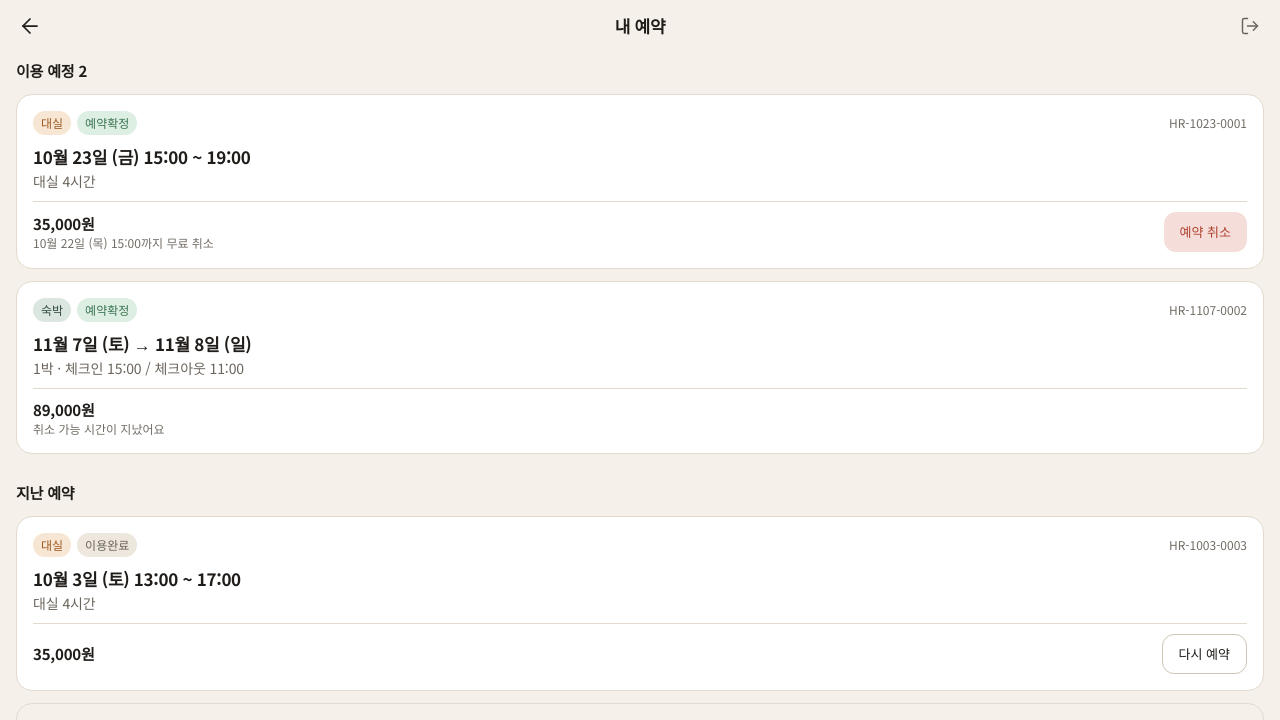
Test case: MyReservationsScreen › refreshes the list when a cancel fails (e.g. the deadline passed meanwhile)
Click the button "예약 취소" at (1205, 232), box left=1164, top=212, right=1247, bottom=252
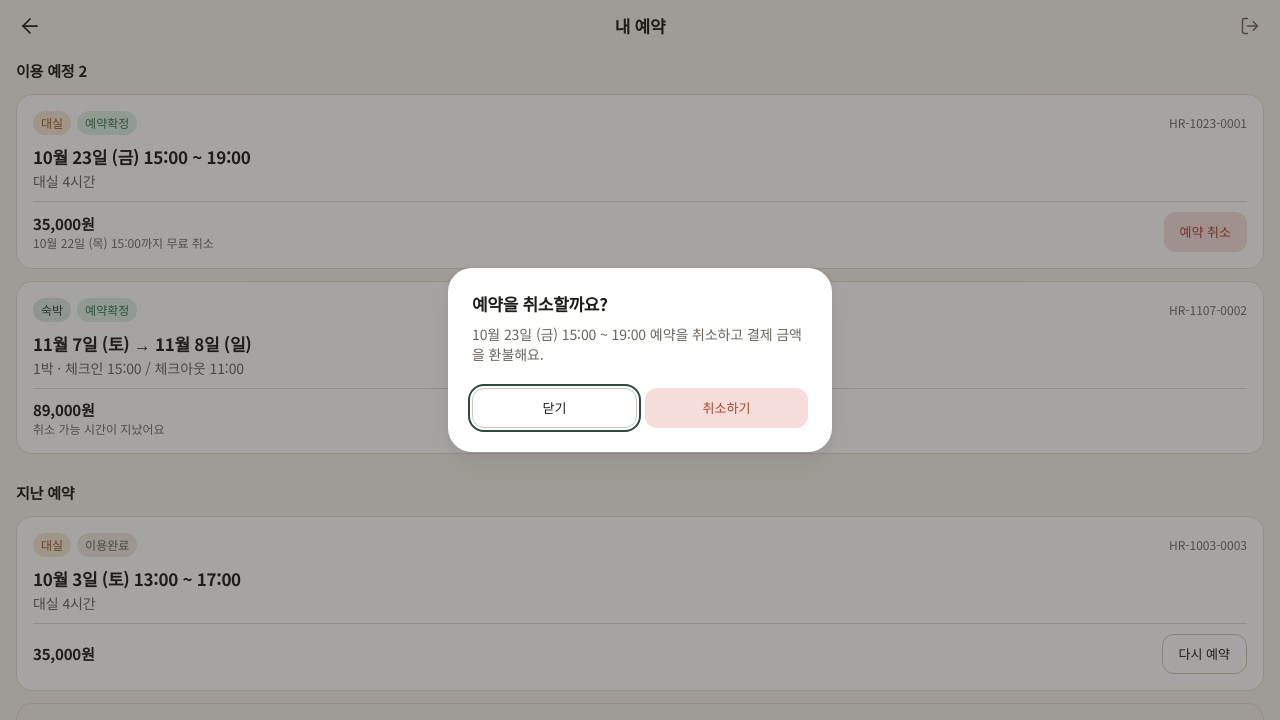
Click the button "취소하기" at (726, 408), box left=645, top=388, right=808, bottom=428
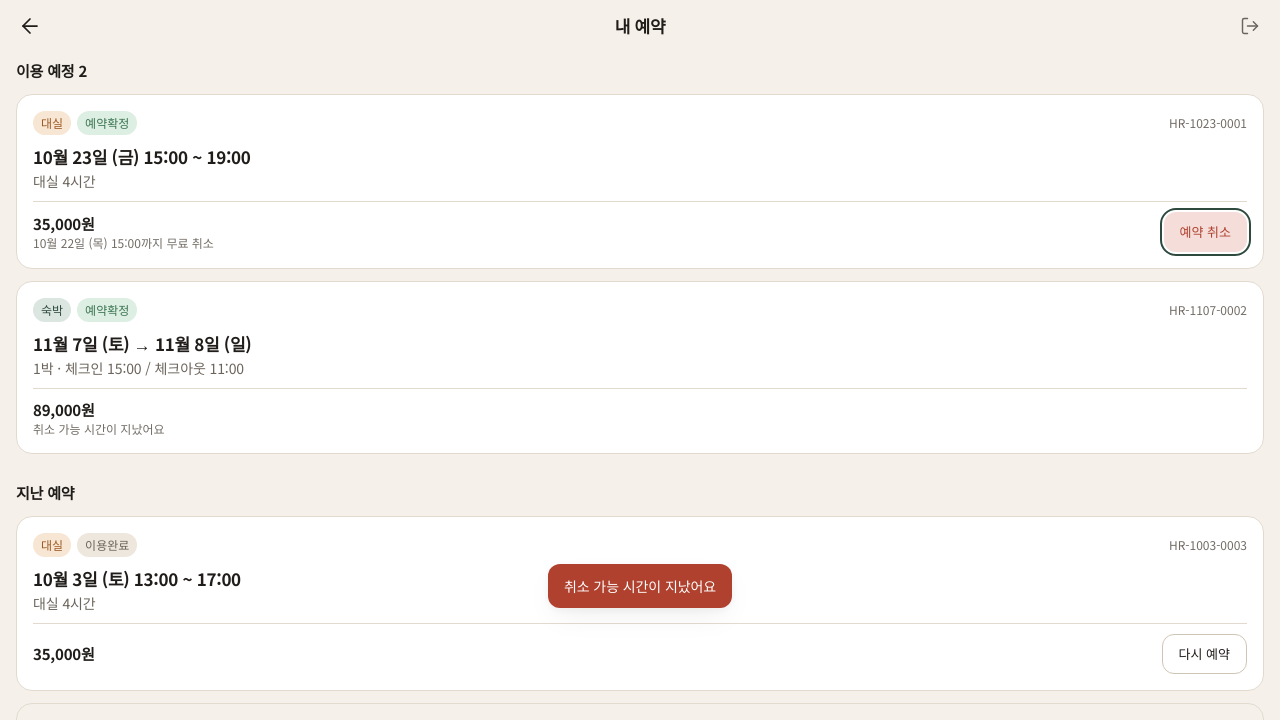
Expected: the text "취소 가능 시간이 지났어요" is shown, left=548, top=564, right=732, bottom=608
